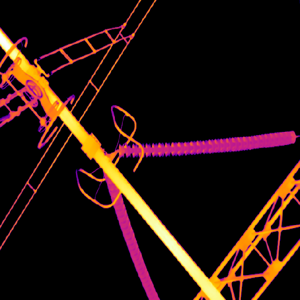insulator: (103, 167, 157, 300), (116, 130, 298, 155)
